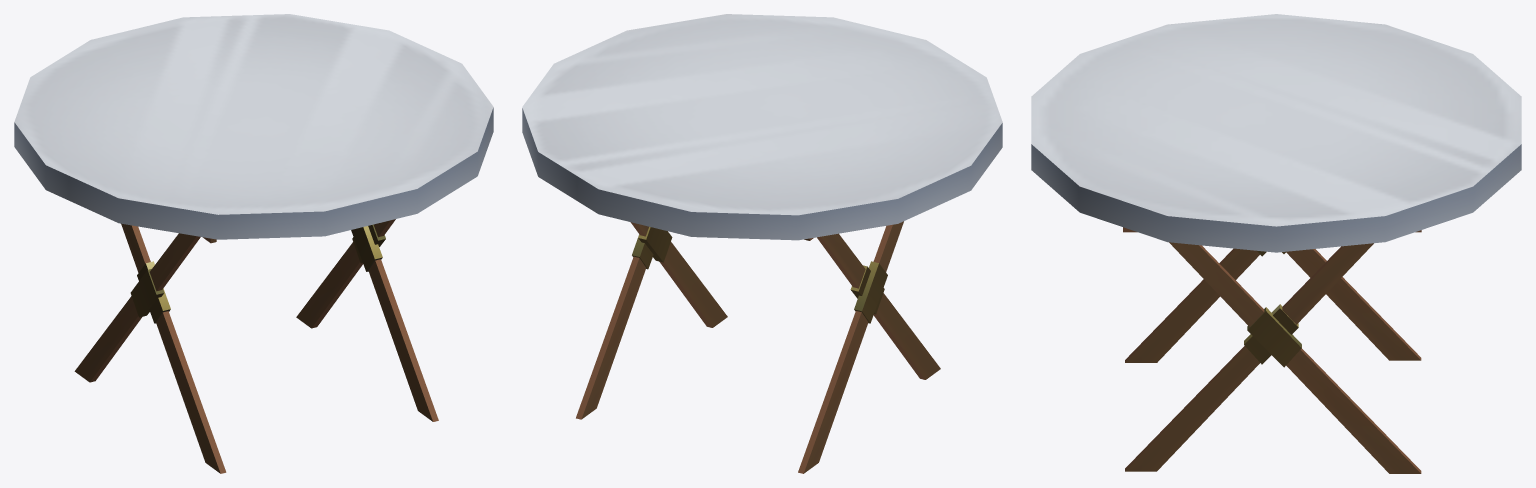
The model's file is CBS_cafe_1F_Table.FBX.
3 views of the same model, side by side, from view 1: azimuth 30°, elevation 25°; view 2: azimuth 150°, elevation 25°; view 3: azimuth 270°, elevation 25° (orthographic). The views are drawn at different scales.
Visible parts, largest first — view 1: CBS_cafe_1F_Table; view 2: CBS_cafe_1F_Table; view 3: CBS_cafe_1F_Table.
Part boxes in pixels (box(x1,y1,x2,y2)): CBS_cafe_1F_Table: box(14, 14, 493, 473); CBS_cafe_1F_Table: box(522, 14, 1002, 473); CBS_cafe_1F_Table: box(1031, 14, 1521, 473).
Bounding box in the file's own units: 75.02 × 48.36 × 73.14.
